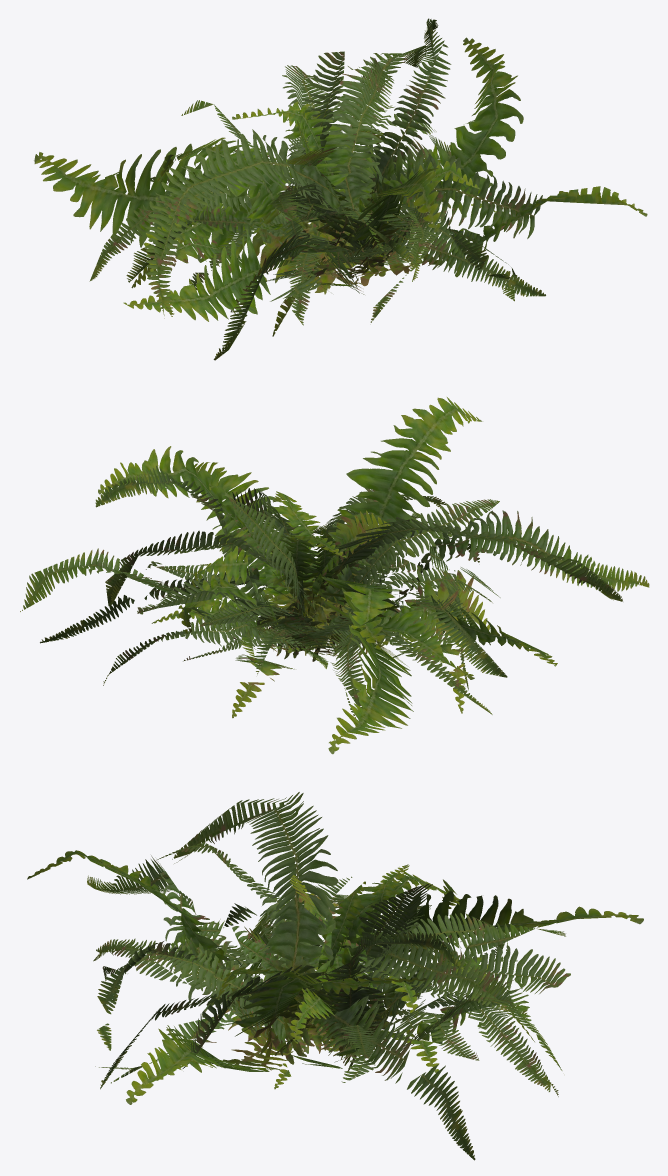
File: fern_02.glb
3 views of the same model, one above another, from view 1: azimuth 30°, elevation 25°; view 2: azimuth 150°, elevation 25°; view 3: azimuth 270°, elevation 25° (orthographic). The views are drawn at different scales.
Bounding box in the file's own units: 1.61 × 0.6 × 1.67.
Materials: 1 (1 with a texture image).
